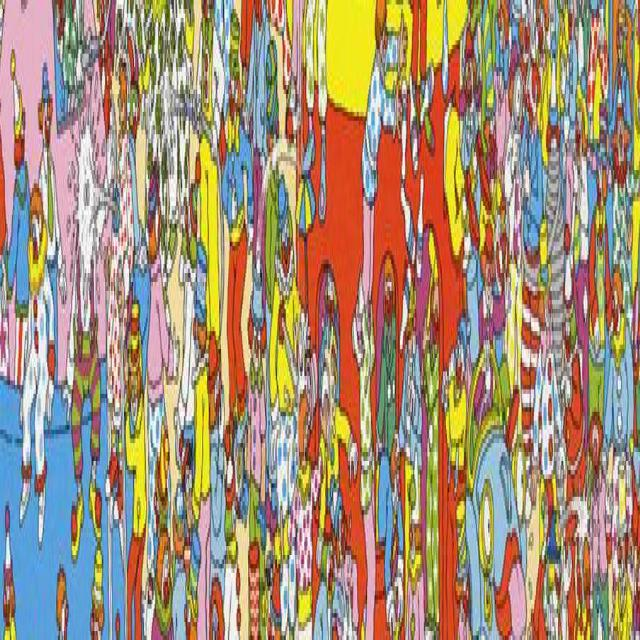waldo: (180, 434, 192, 528)
